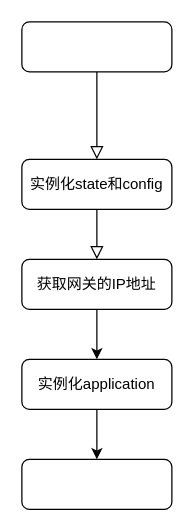
This 194x531 diagram has some shape labels left out. The box of each missing label's shape, as (x1, y1, x2, y2) in pixels:
Application (): (21, 458, 172, 509)
main: (21, 21, 172, 72)
